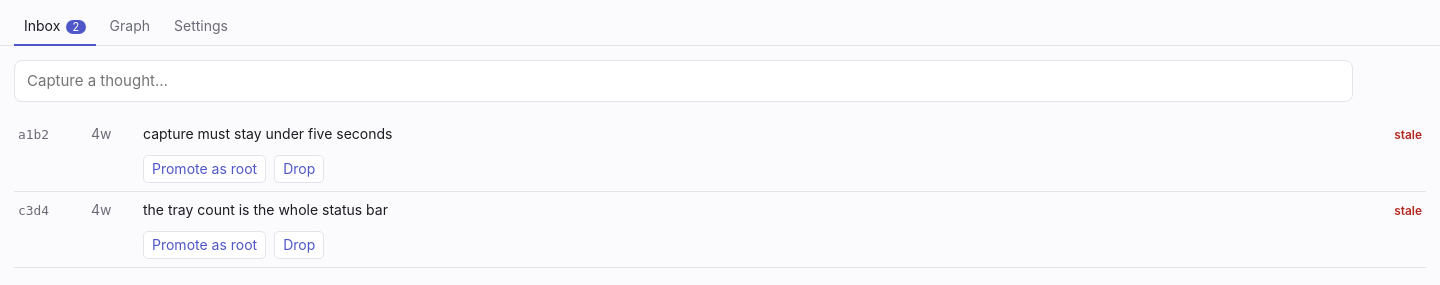
Scenario: InboxView › promotes one entry as a root and refreshes the list and Inbox badge
The width and height of the screenshot is (1440, 285).
Expected: the tab "Inbox2" is shown, [14,10,96,46]
Click the button "Promote as root" below "a1b2" at (205, 169), box [143,155,266,183]
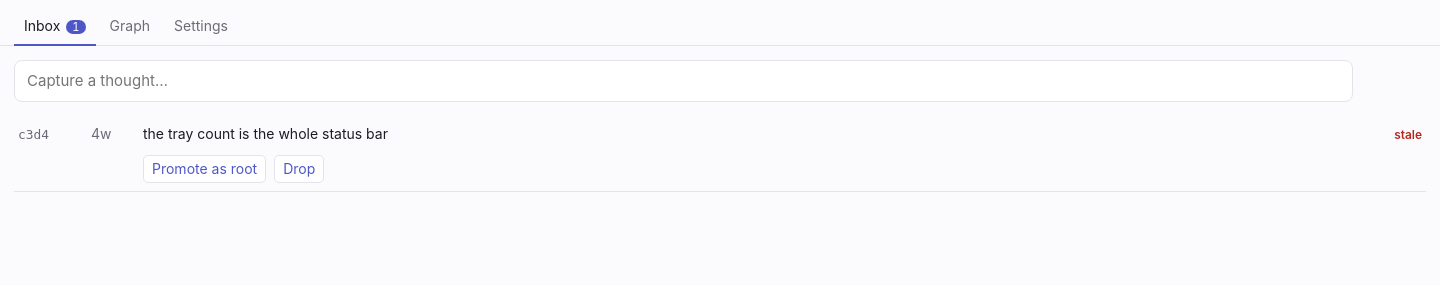
Now the tab "Inbox1" is shown, box [14,10,96,46]
Now the text "a1b2" is gone
